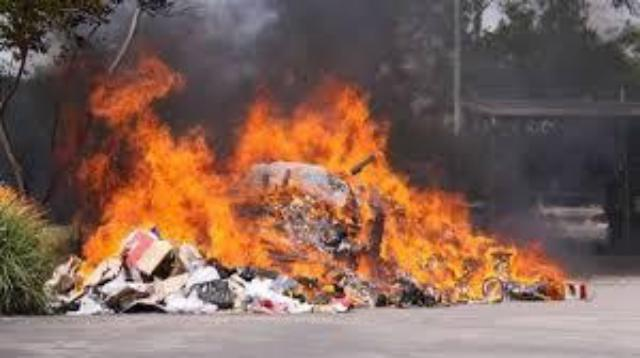fire: (262, 66, 580, 296), (55, 70, 251, 267)
